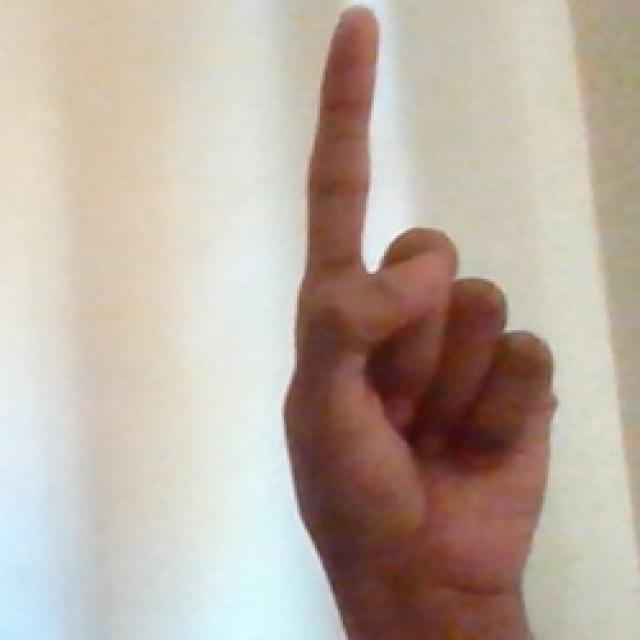Numeric-1: (296, 4, 552, 634)
